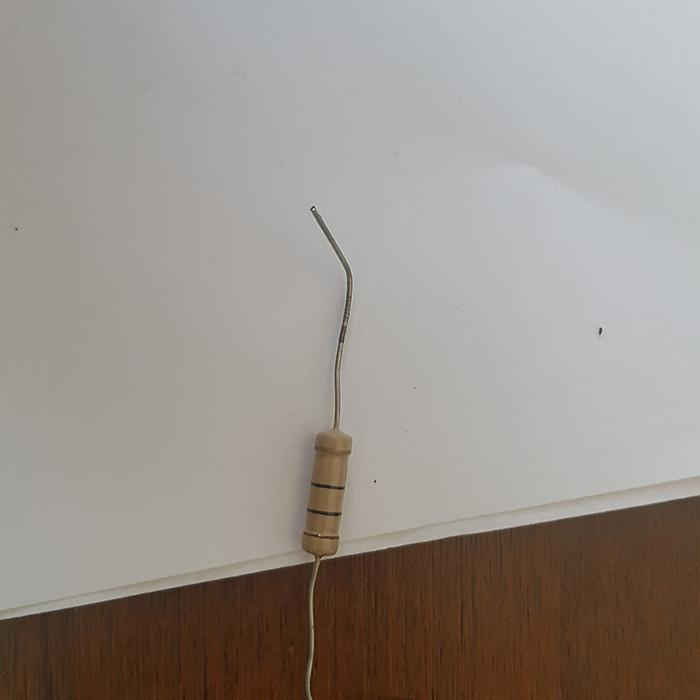resistor: (302, 428, 352, 553)
